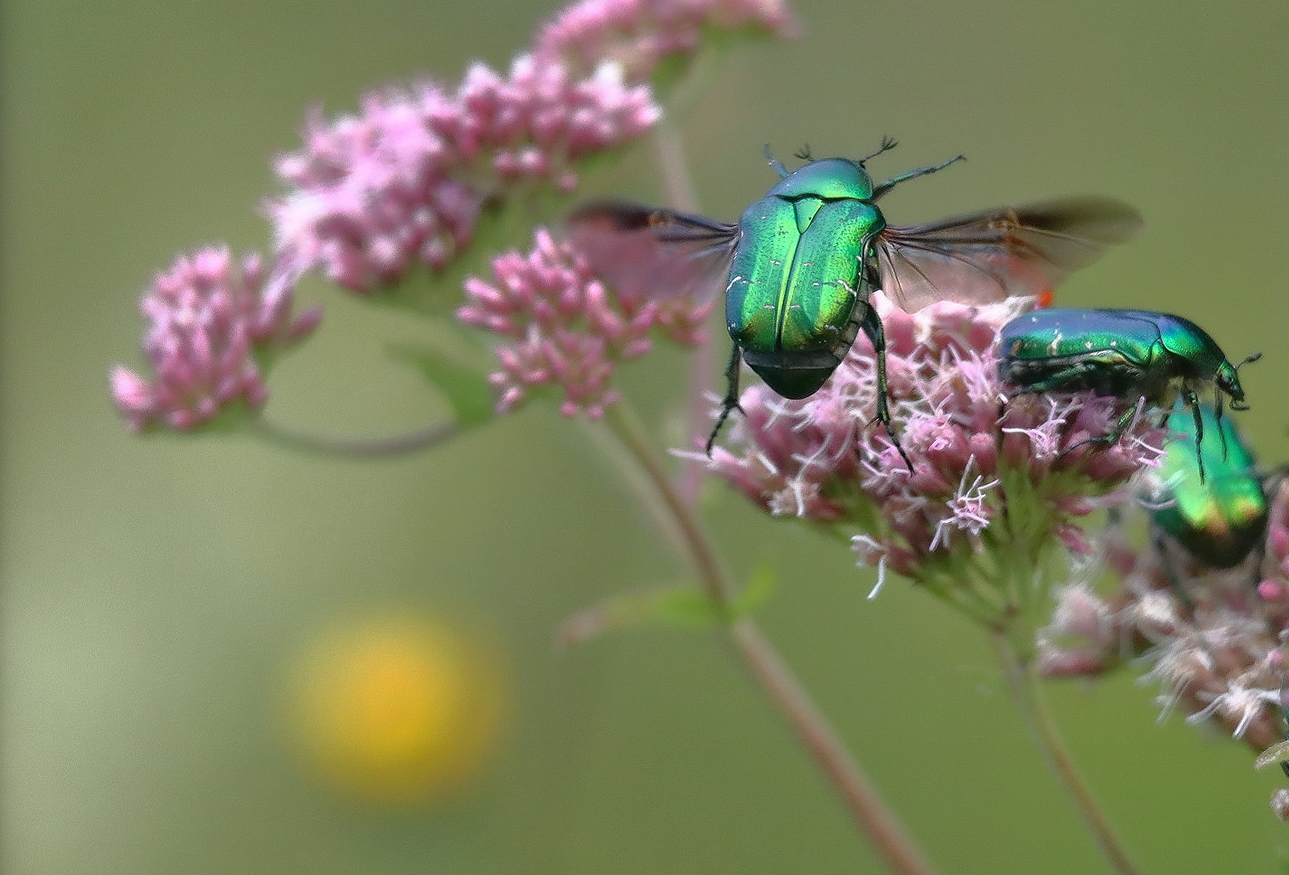Cetonia_aurata: (693, 130, 971, 484)
